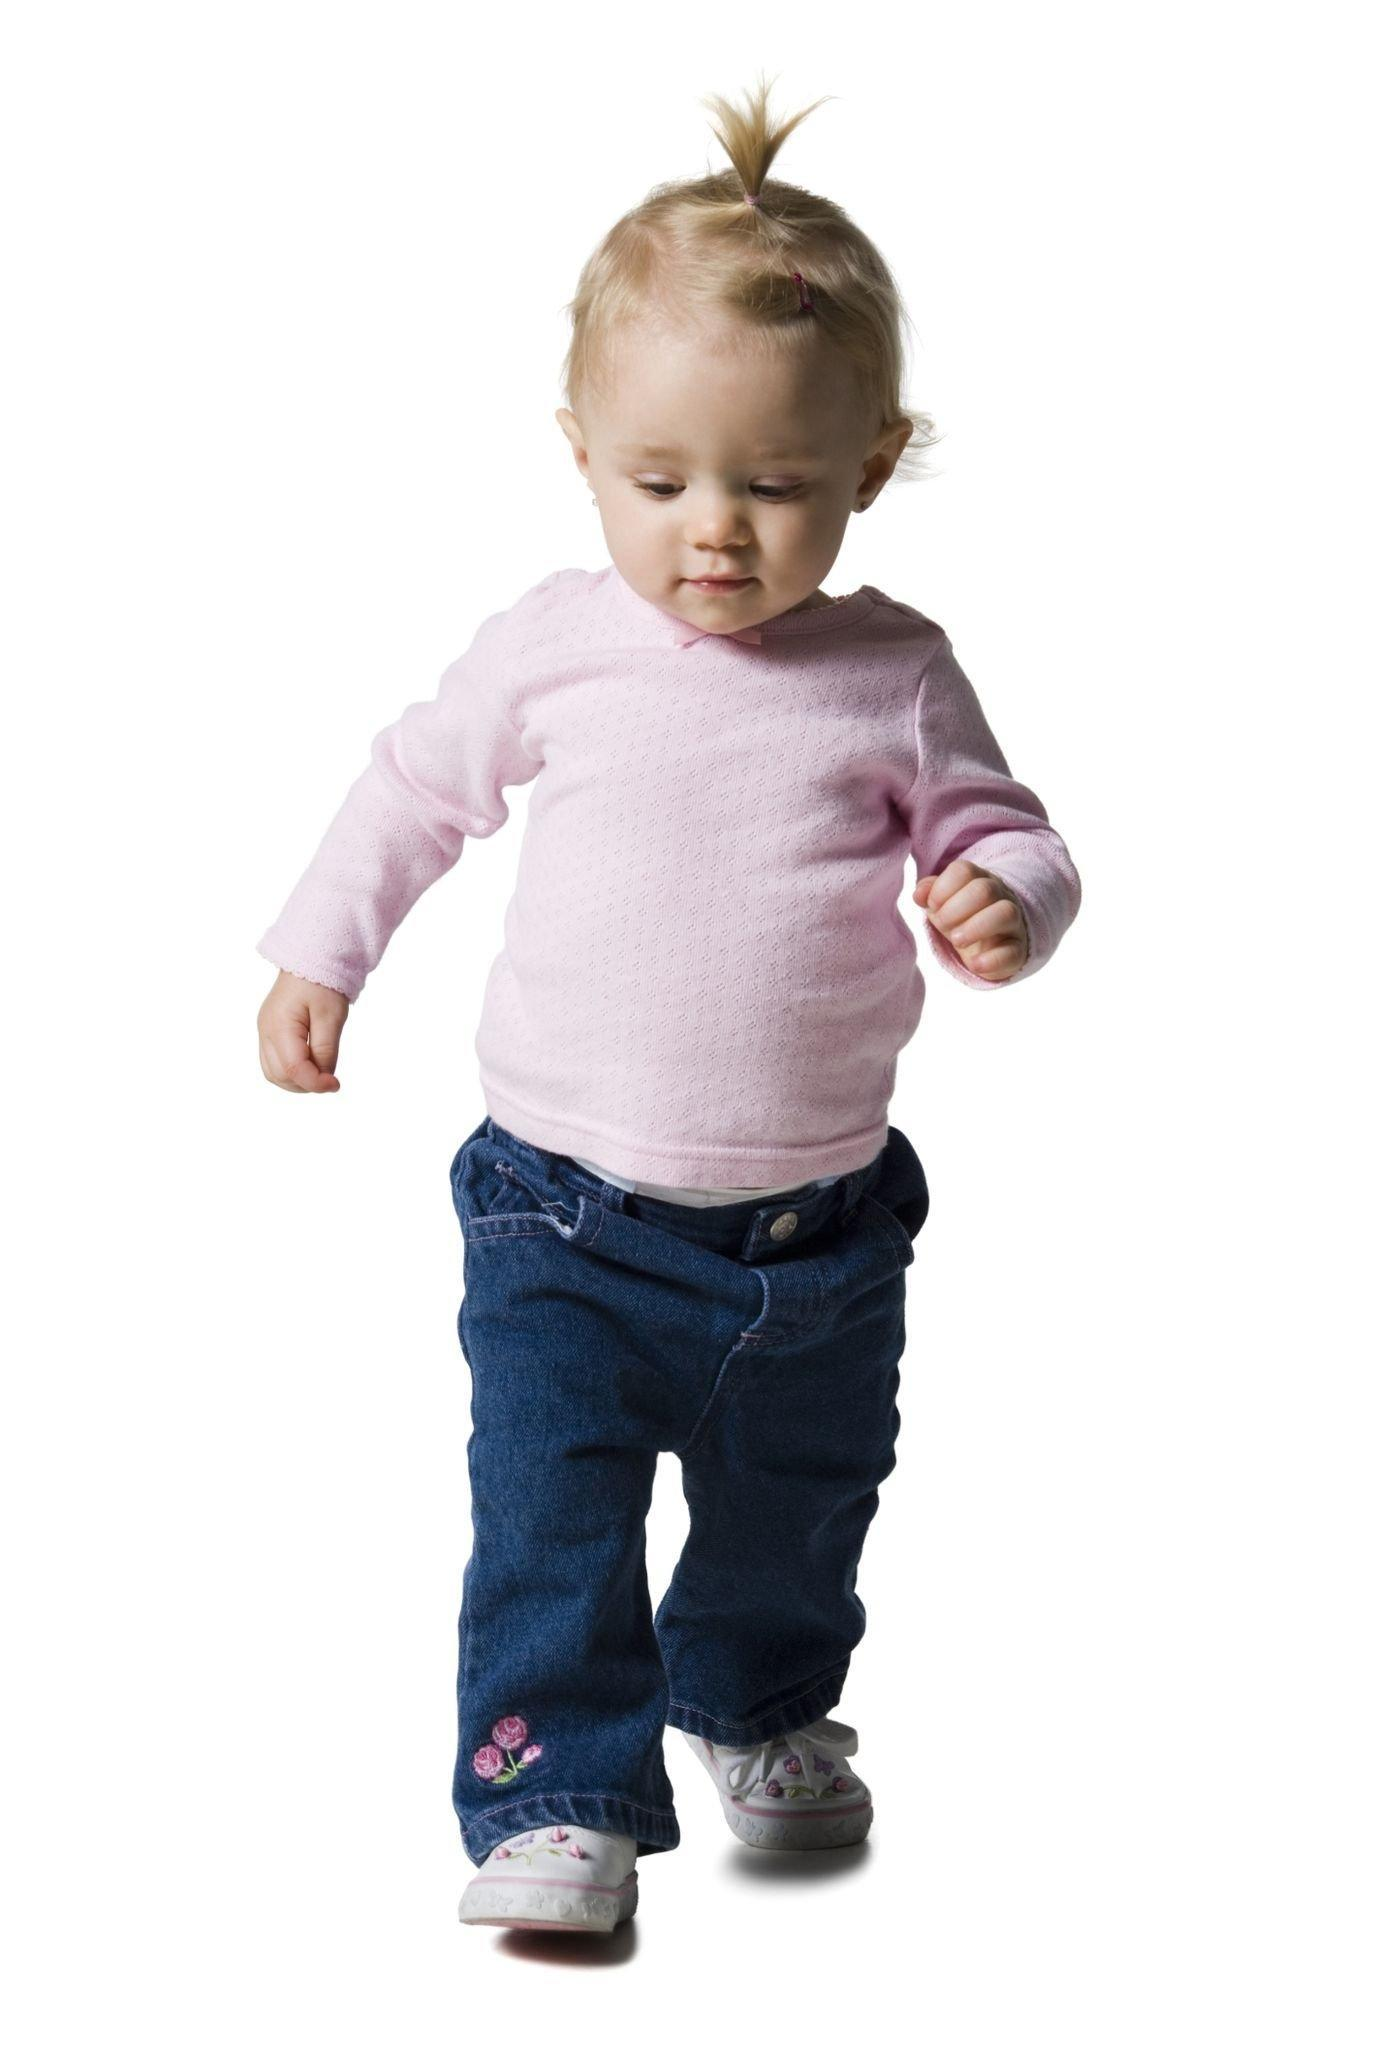Healthy: (581, 277, 874, 668)
